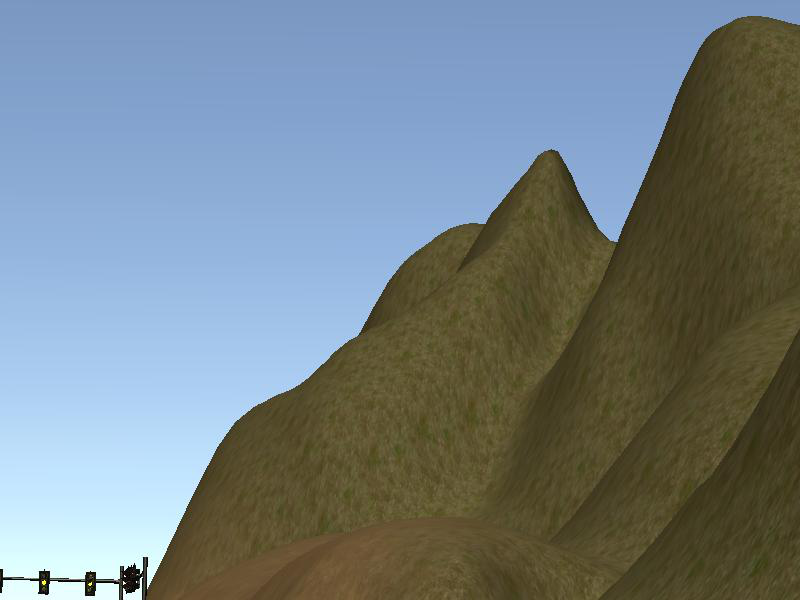yellow: (85, 572, 97, 595), (40, 569, 49, 594)
